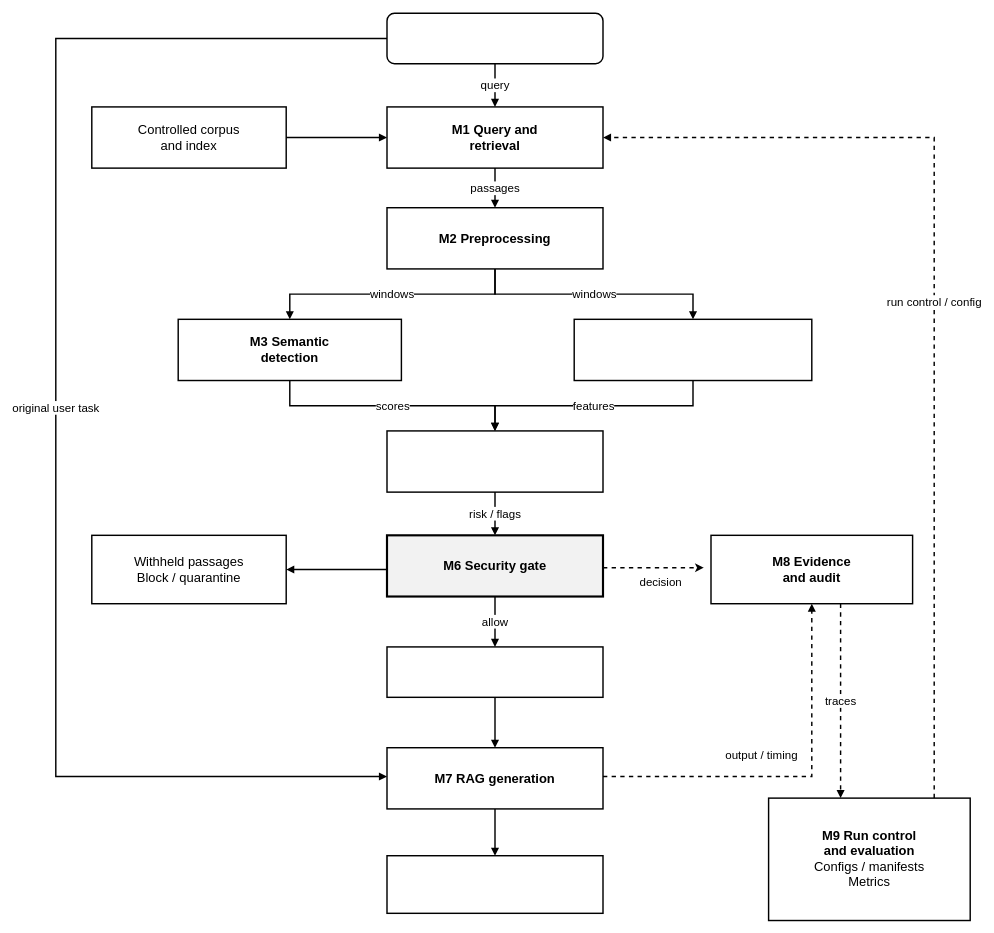
Image size: 994x933. Some labels were removed from this diagram. The centre of each missing label's shape, as x and y in pixels:
"Approved context" goes at (x=494, y=672).
"M4 Structural detection" goes at (x=692, y=349).
"M5 Fusion and uncertainty" goes at (x=494, y=461).
"Response / insufficient context" goes at (x=494, y=884).
"User query" goes at (x=494, y=38).
